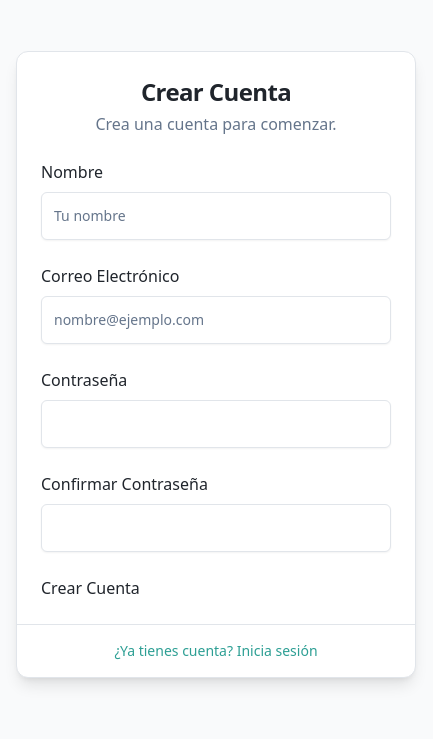
Register Component › shows error when passwords do not match
In the field labelled "Nombre": (216, 216) [41,192,391,240], type "Test User"
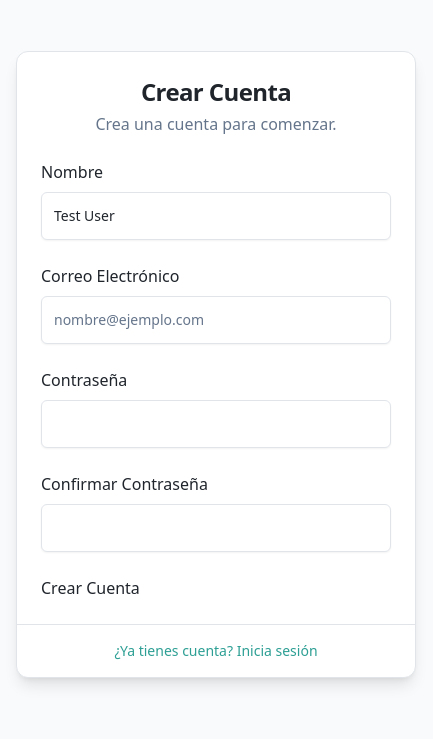
In the field labelled "Correo Electrónico": (216, 320) [41,296,391,344], type "test@example.com"
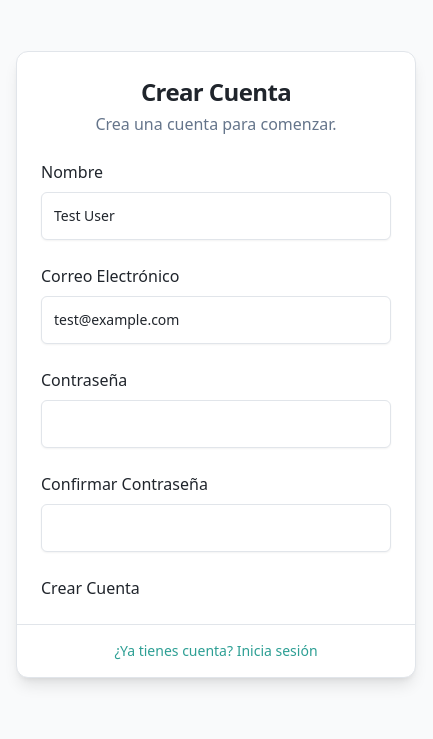
In the password field labelled "Contraseña": (216, 424) [41,400,391,448], type "password123"
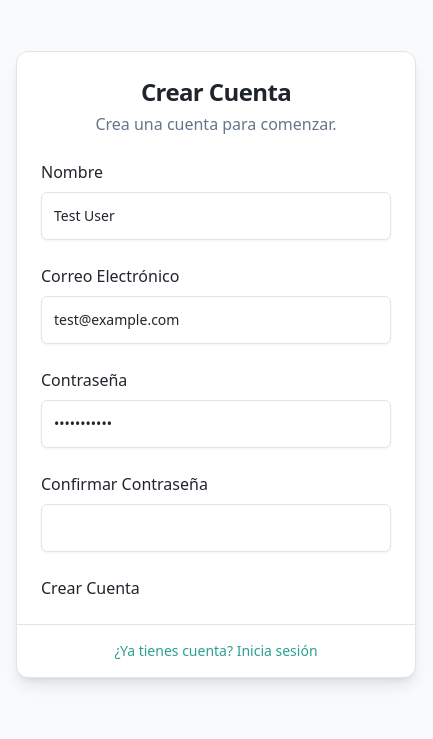
In the password field labelled "Confirmar Contraseña": (216, 528) [41,504,391,552], type "mismatch"
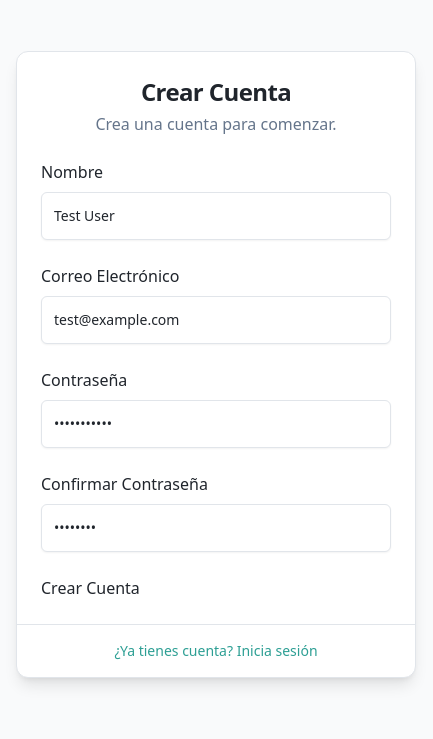
Click the button "Crear Cuenta": click(90, 588) [41,576,140,600]
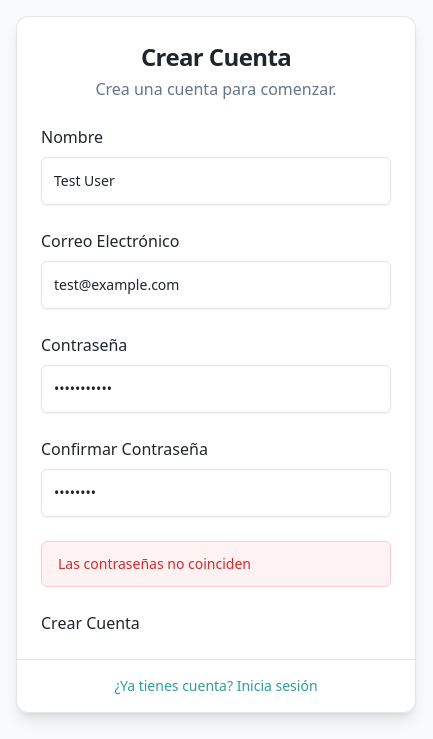
Check: the text "Las contraseñas no coinciden" is shown, box [41,540,391,586]
